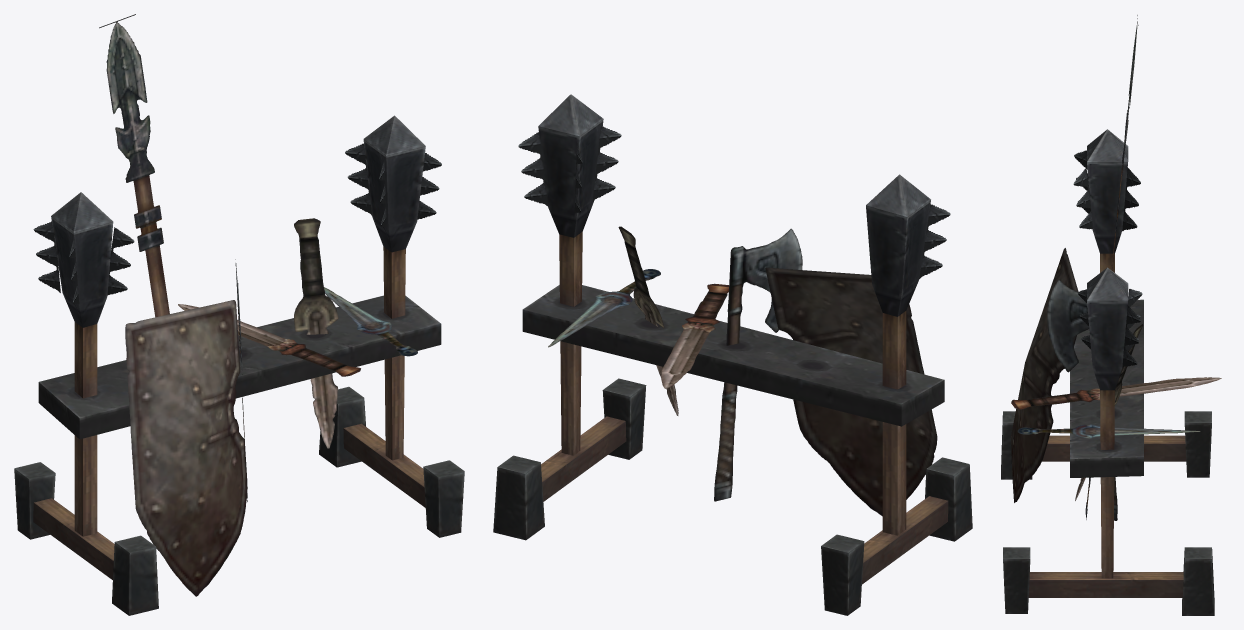
File: common_underground_wuqijia01.FBX
3 renders of one model, left to right at view 1: azimuth 30°, elevation 25°; view 2: azimuth 150°, elevation 25°; view 3: azimuth 270°, elevation 25°, orthographic. The views are drawn at different scales.
Parts seen in each view (by area): view 1: Box01; view 2: Box01; view 3: Box01.
Part boxes in pixels (box(x1,y1,x2,y2)): Box01: box(14, 14, 464, 615); Box01: box(493, 94, 972, 615); Box01: box(1001, 15, 1221, 615).
Bounding box in the file's own units: 2.32 × 3.16 × 1.35.
